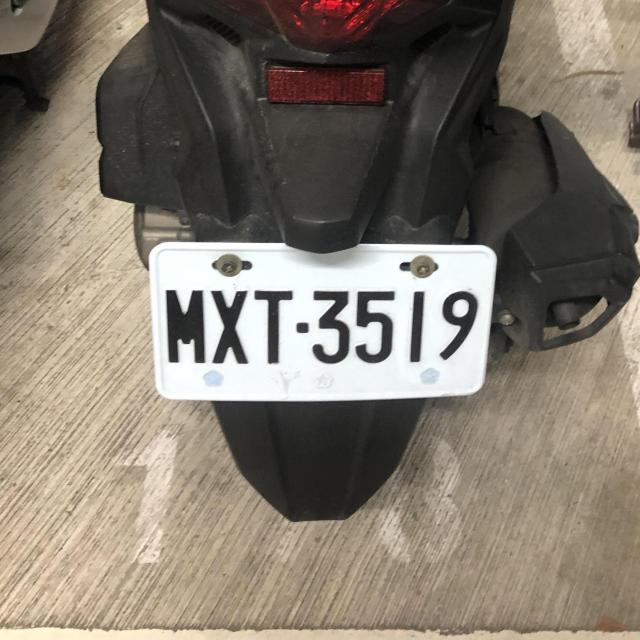W: (141, 234, 502, 413)
